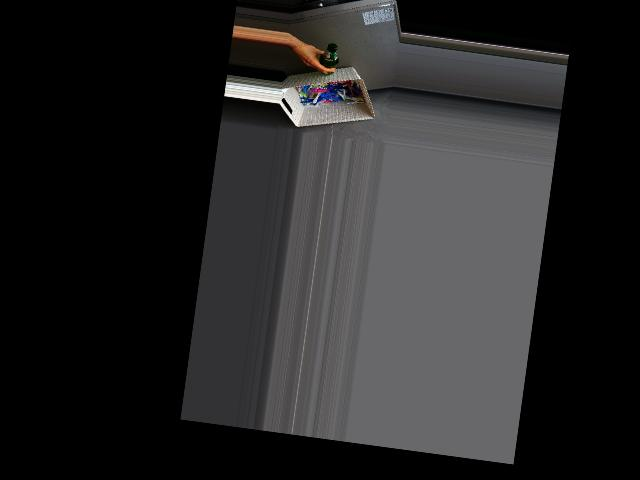beer: (317, 41, 341, 76)
